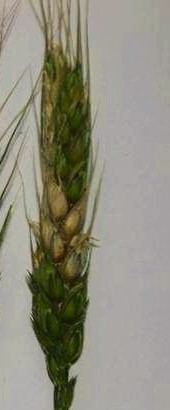Wheat scab: (24, 49, 94, 376)
